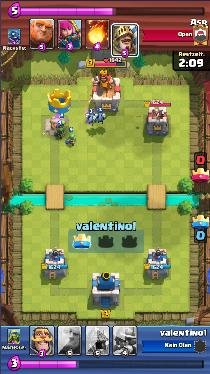ally_minion: (85, 112, 96, 125), (97, 109, 104, 123)
ally_spear_goblin: (66, 134, 78, 146), (55, 128, 66, 140), (57, 120, 66, 129)
